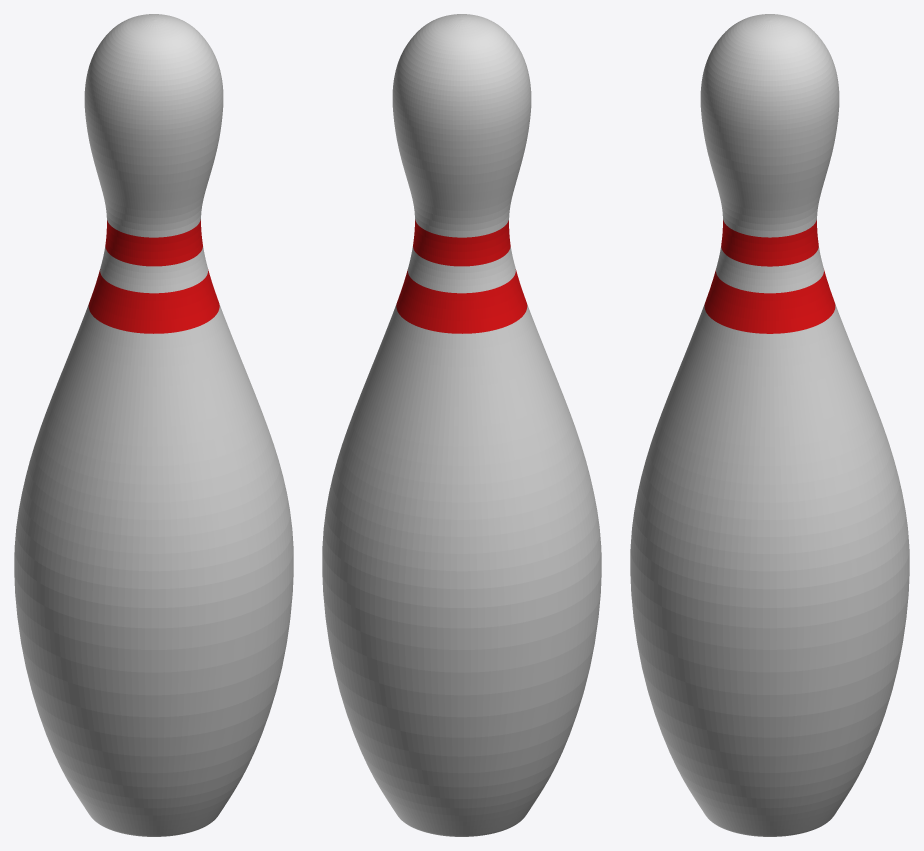
File: BowlingPin.fbx
3 renders of one model, left to right at view 1: azimuth 30°, elevation 25°; view 2: azimuth 150°, elevation 25°; view 3: azimuth 270°, elevation 25°, orthographic.
Visible parts, largest first — view 1: Cylinder; view 2: Cylinder; view 3: Cylinder.
Part boxes in pixels (<box>): Cylinder: <box>14,14,293,836</box>; Cylinder: <box>322,14,601,836</box>; Cylinder: <box>630,14,909,836</box>.
Size of the model in its own units: 0.11 by 0.3427 by 0.11.
